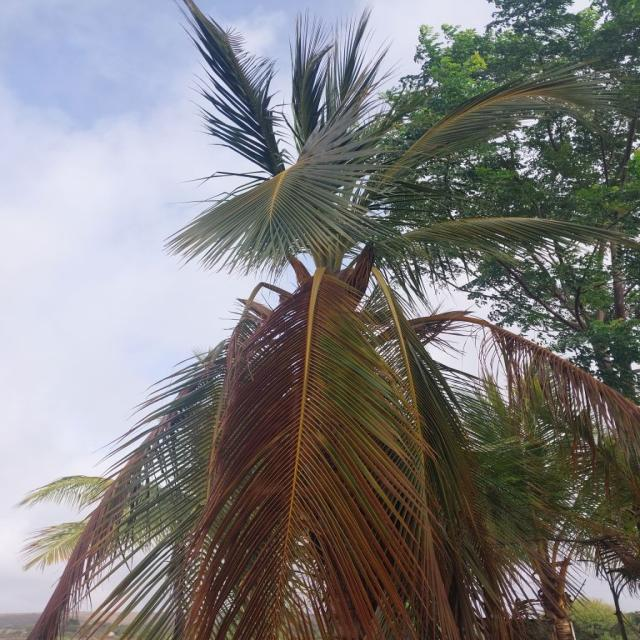bud root dropping: (28, 0, 637, 640)
